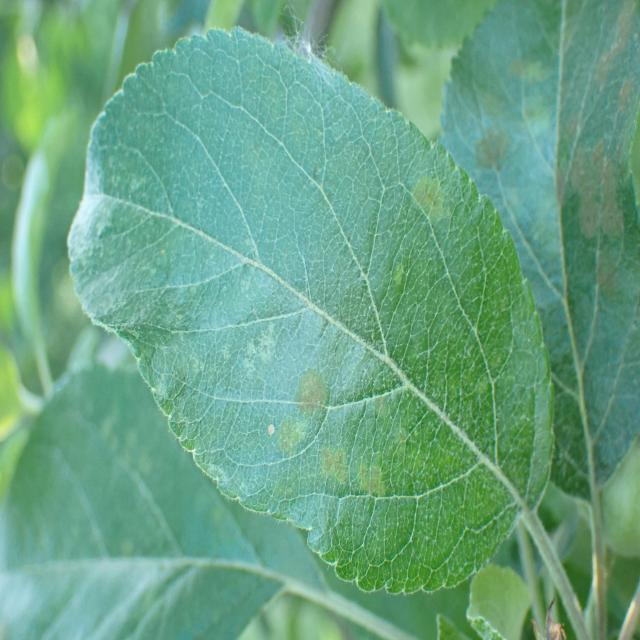scab: (132, 165, 512, 604), (466, 0, 639, 492)
